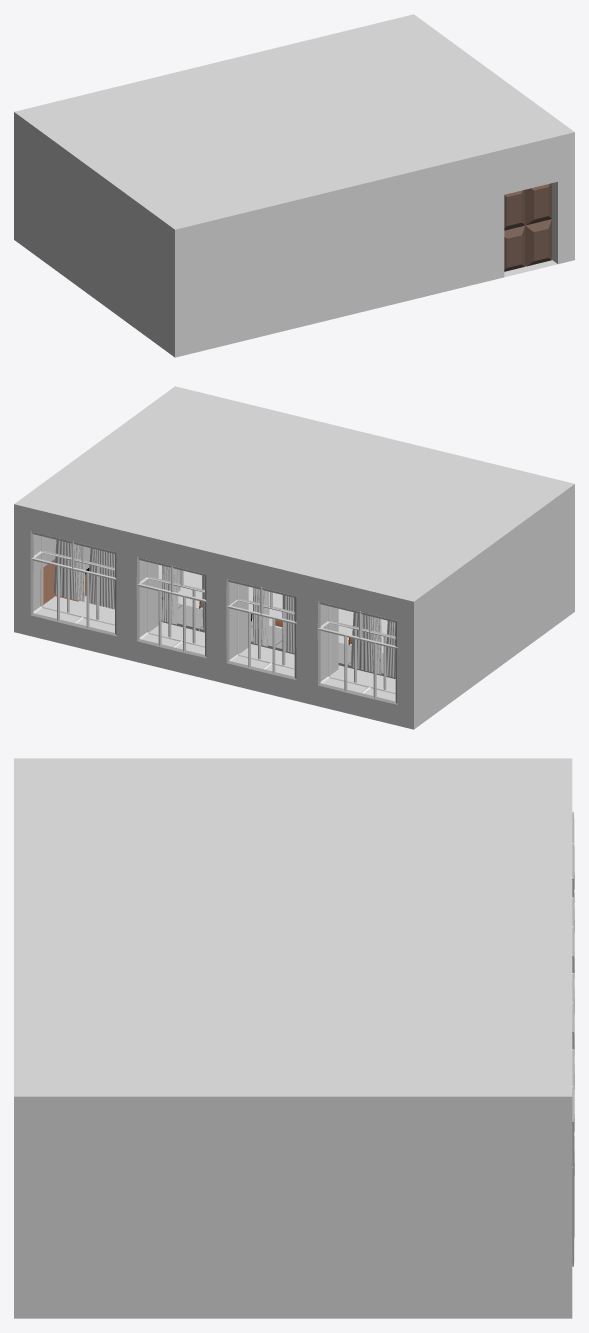
File: Room.fbx
The picture shows the model from 3 angles, top to bottom: view 1: azimuth 30°, elevation 25°; view 2: azimuth 150°, elevation 25°; view 3: azimuth 270°, elevation 25°; orthographic projection. The views are drawn at different scales.
Parts seen in each view (by area): view 1: Cube.012, Cube, Cube.005, Plane.010, Cube.003, Cube.011, Cube.001; view 2: Cube.012, Cube.005, Cube.004, Cube.007, Cube.001, Cube.008, Cube.009, Cube.010, Plane.004, Cube.002, Plane.003, Plane (+5 smaller); view 3: Cube.012, Cube.006, Cube.003, Cube.002, Cube.004.
Boxes of the visible parts, x1,y1,x2,y2 form: Cube.012: [14, 14, 574, 237]; Cube: [165, 158, 504, 357]; Cube.005: [23, 128, 165, 349]; Plane.010: [504, 183, 551, 271]; Cube.003: [552, 140, 574, 264]; Cube.011: [504, 145, 557, 194]; Cube.001: [14, 120, 23, 224]; Cube.012: [14, 386, 574, 609]; Cube.005: [423, 500, 565, 721]; Cube.004: [14, 596, 423, 729]; Cube.007: [116, 538, 338, 683]; Cube.001: [31, 517, 423, 707]; Cube.008: [136, 557, 296, 679]; Cube.009: [30, 531, 116, 636]; Cube.010: [317, 601, 397, 704]; Plane.004: [54, 540, 114, 609]; Cube.002: [14, 512, 40, 613]; Plane.003: [351, 612, 395, 677]; Plane: [78, 571, 387, 653]; Cube.012: [14, 758, 572, 1111]; Cube.006: [48, 1111, 538, 1318]; Cube.003: [14, 1111, 47, 1318]; Cube.002: [538, 1111, 572, 1279]; Cube.004: [538, 1280, 572, 1318].
Bounding box in the file's own units: 1508 × 464 × 1057.
